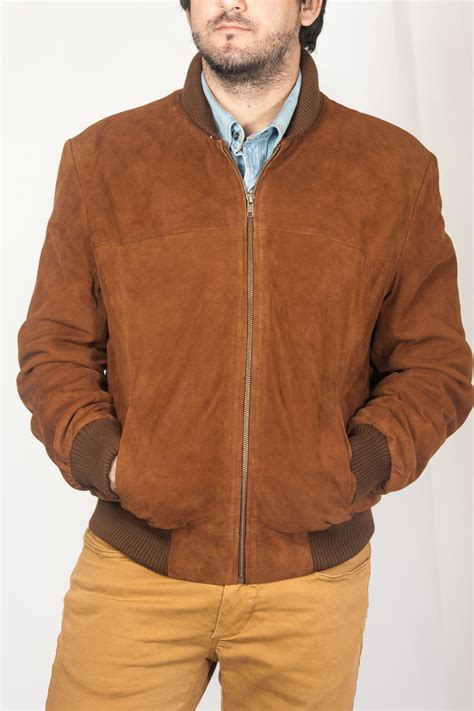gamuza: (16, 52, 474, 586)
